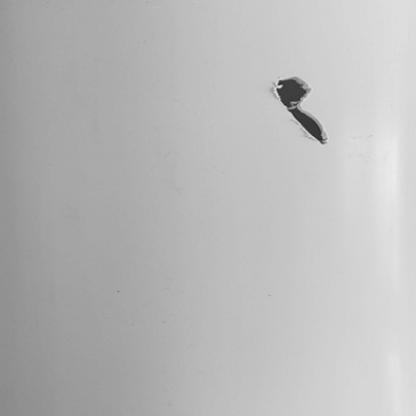kongdong: (272, 75, 327, 146)
